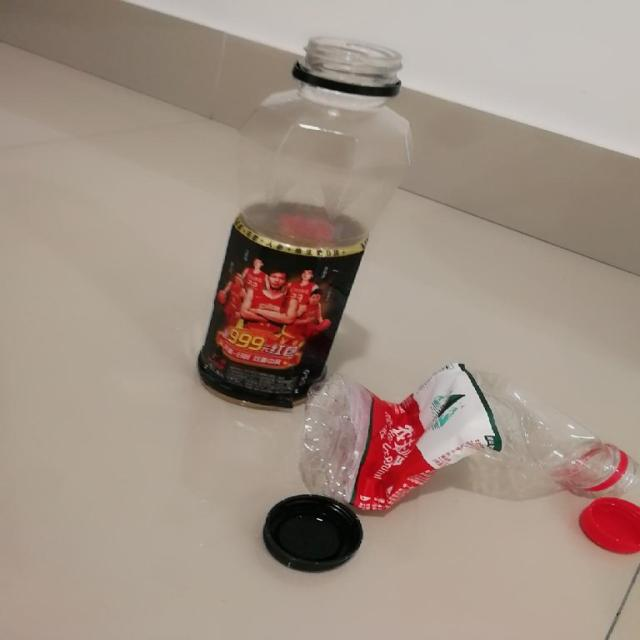-Recyclables - plastic bottle-: (196, 37, 415, 408), (298, 363, 633, 516)
